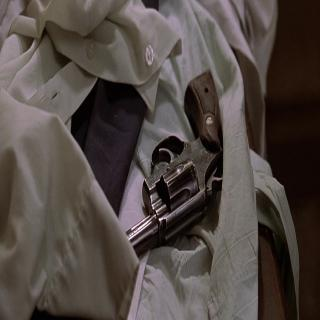gun: (120, 66, 227, 254)
